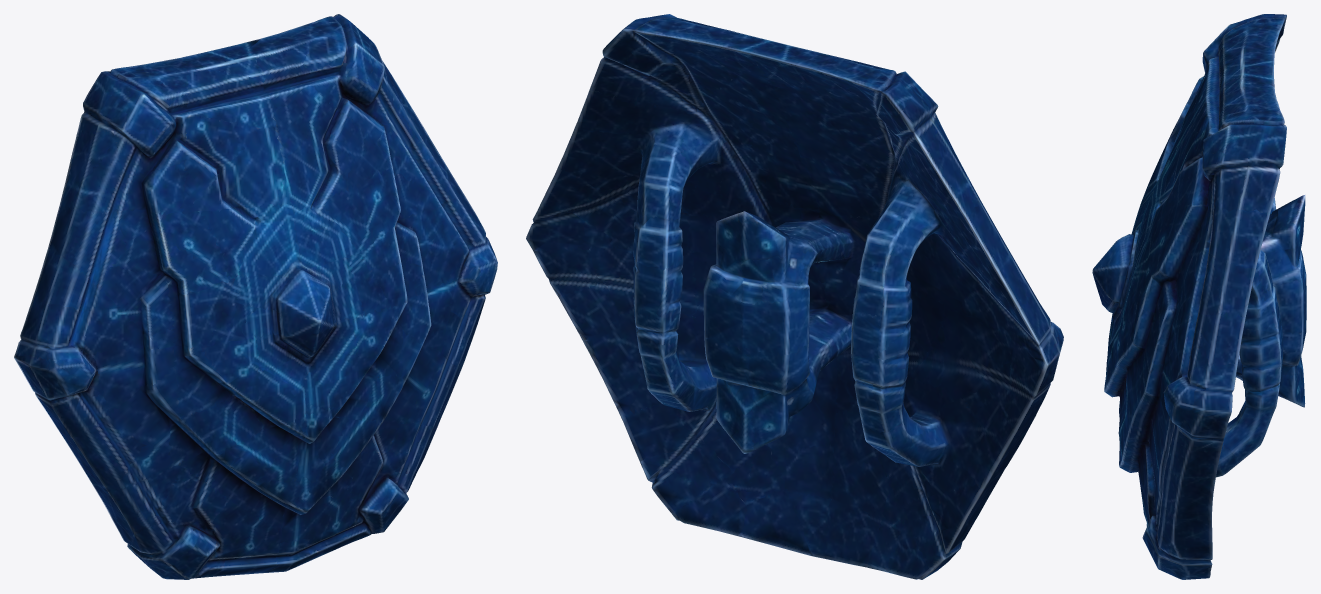
Rendered from sapphire_plate.glb.
The picture shows the model from 3 angles, left to right: view 1: azimuth 30°, elevation 25°; view 2: azimuth 150°, elevation 25°; view 3: azimuth 270°, elevation 25°; orthographic projection. The views are drawn at different scales.
Size of the model in its own units: 1.9 by 1.86 by 0.7716.
1 material, 1 textured.
